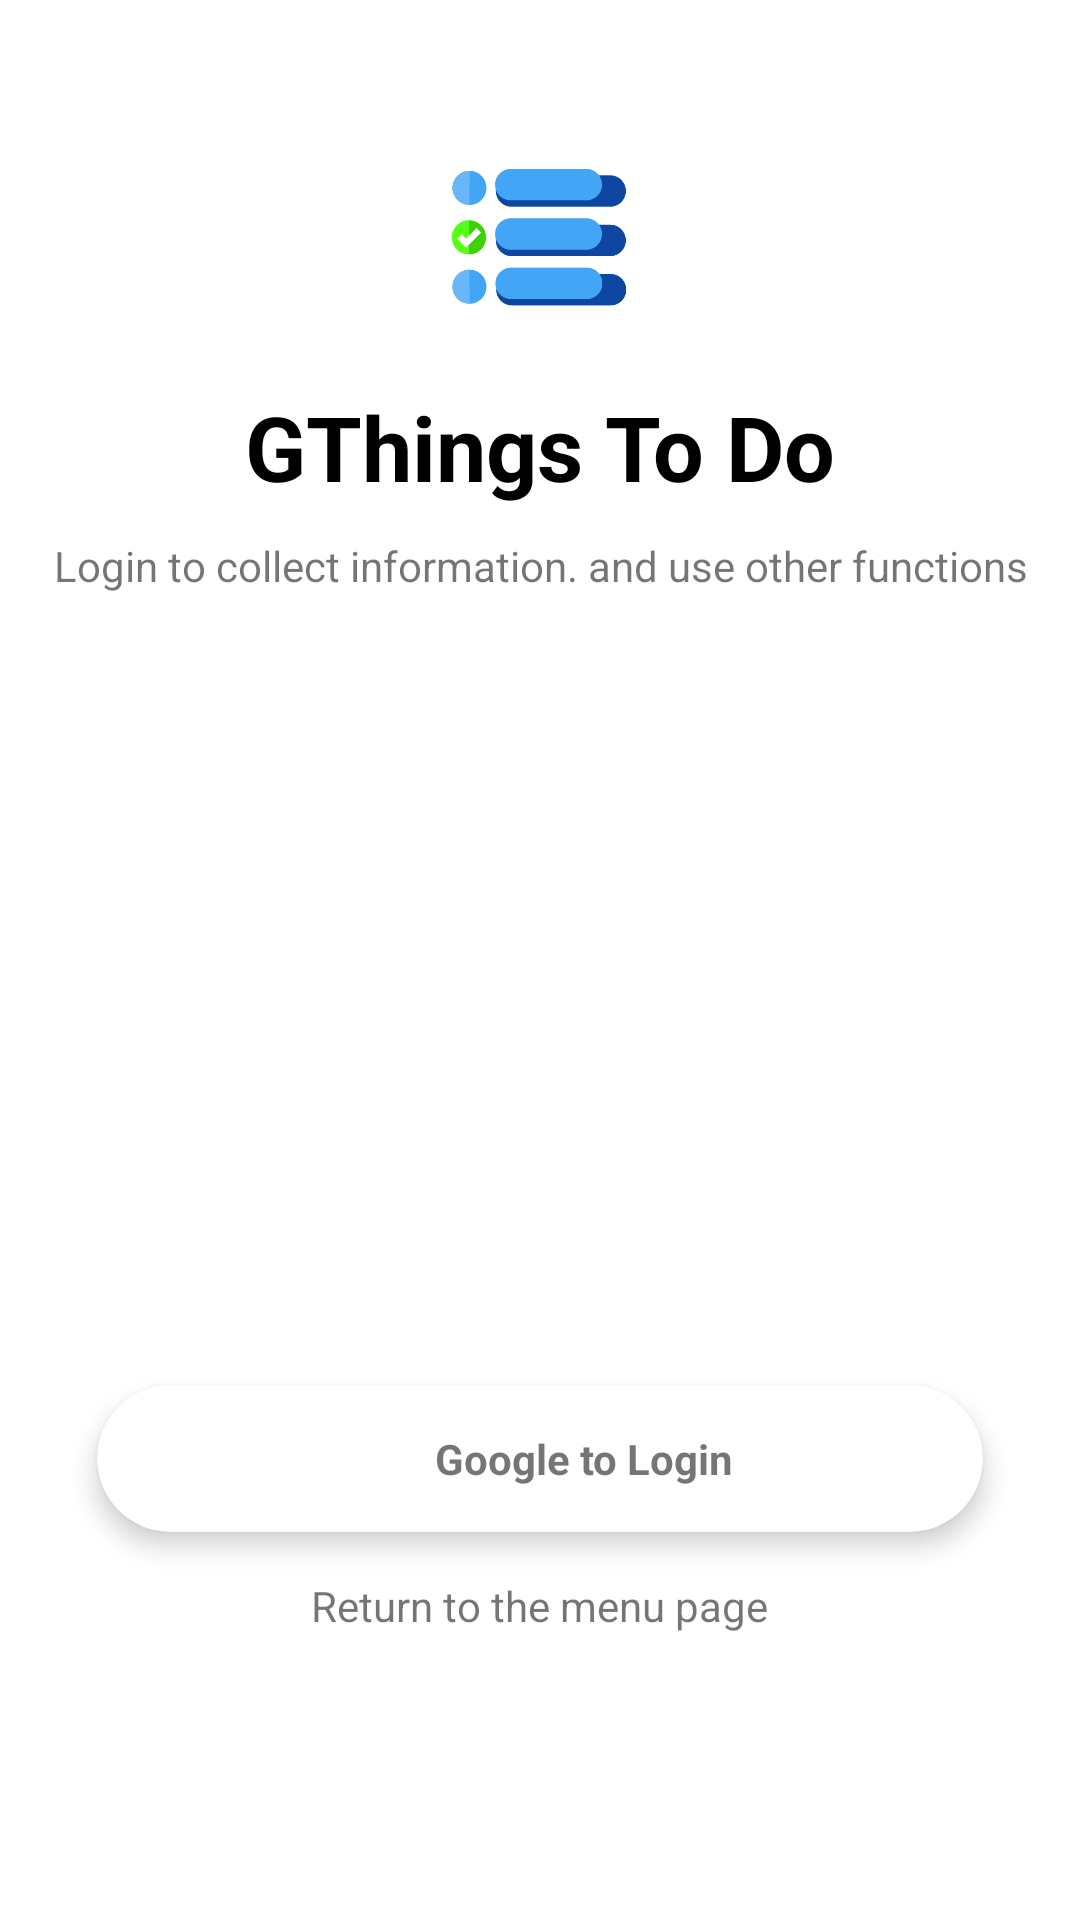

Icons on this 1080 × 1920 Android screen, each with its box as [x1=x1, y1=y1, x2=x2, y2=y2]:
todolist: [x1=452, y1=169, x2=626, y2=306]
